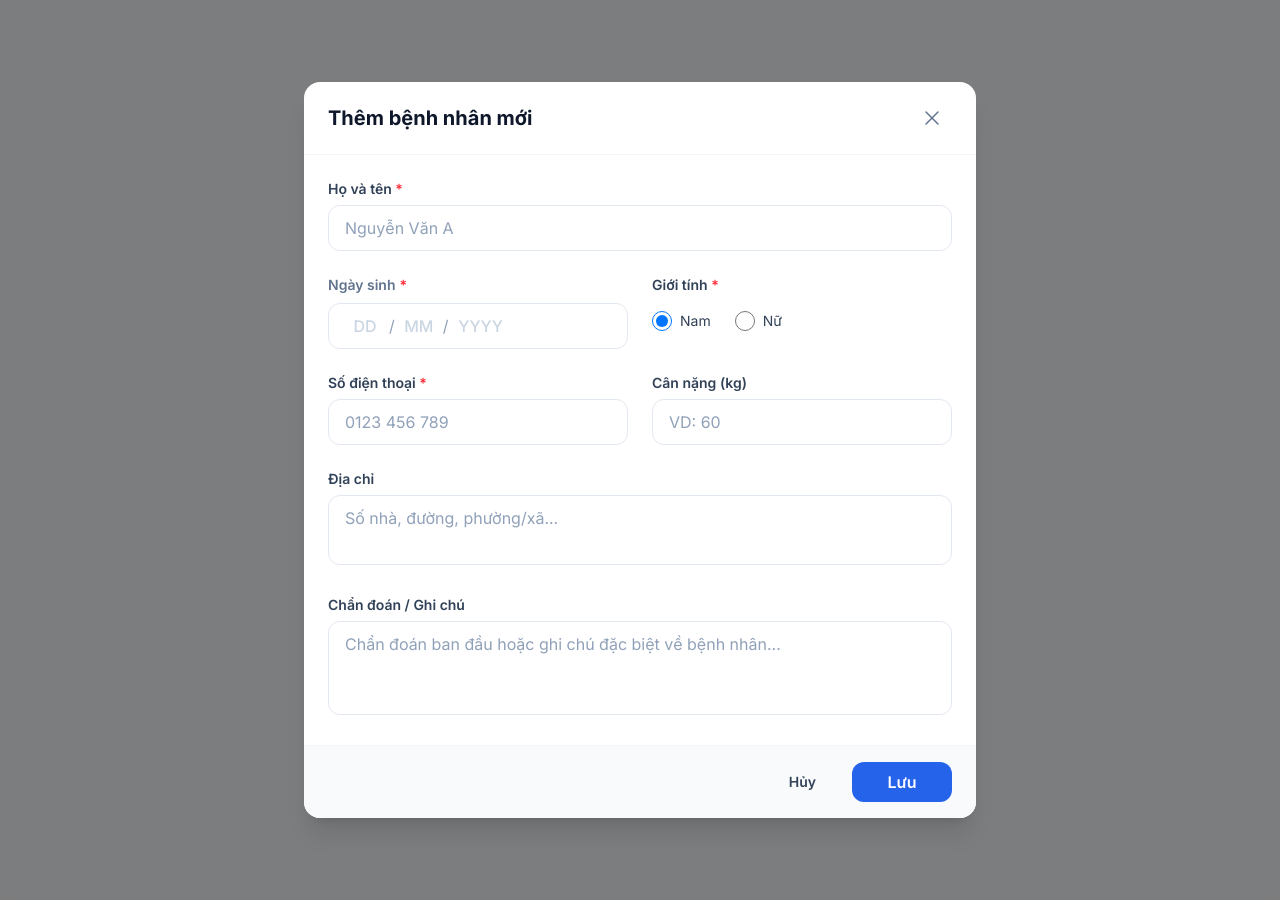
PatientFormDialog › should show validation error for invalid date
This screenshot has width=1280, height=900.
Type "Test Patient" into the field labelled "Họ và tên *". click: (640, 228)
box: [328,205,952,251]
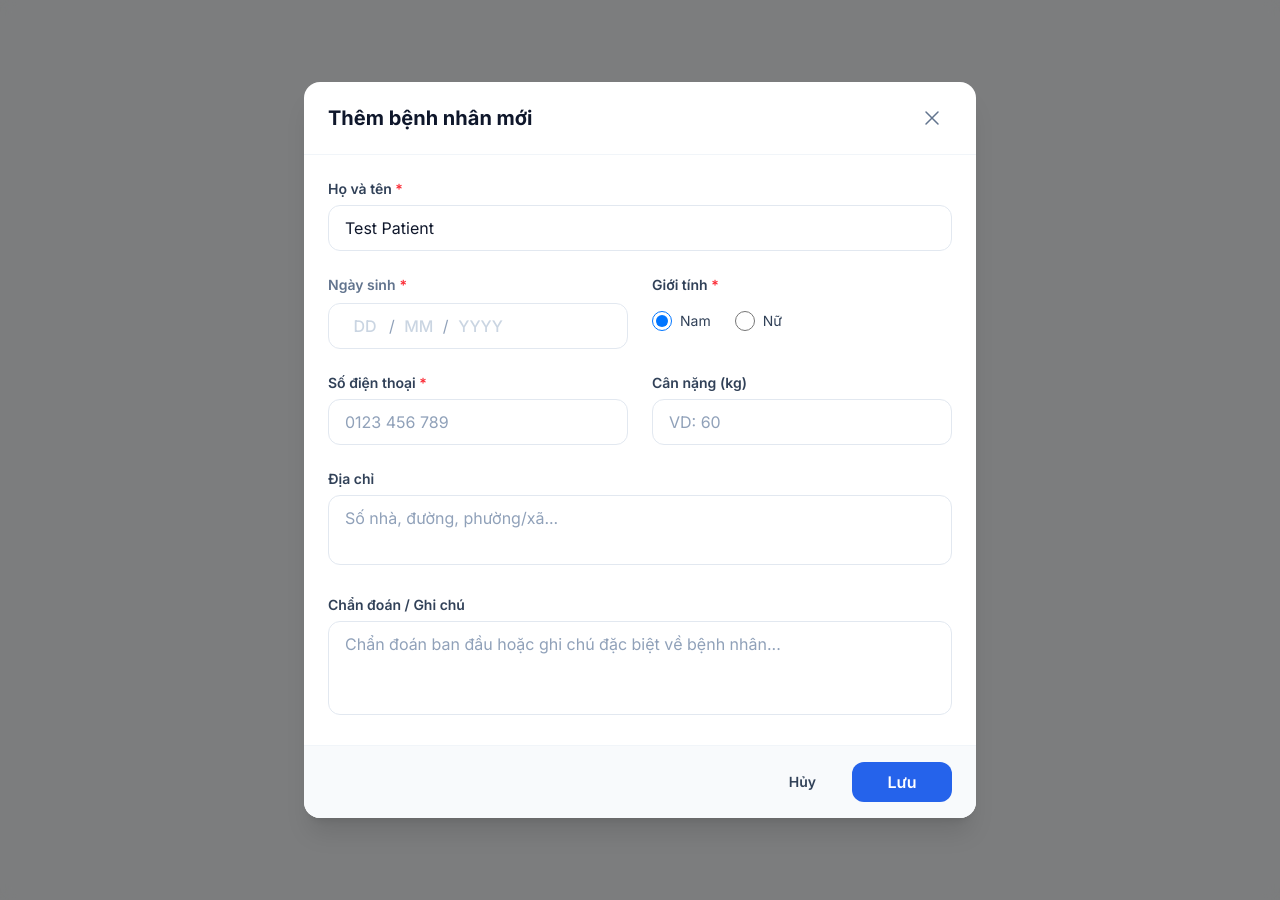
Type "32" into the field with placeholder "DD". click: (365, 326)
box: [345,314,385,338]
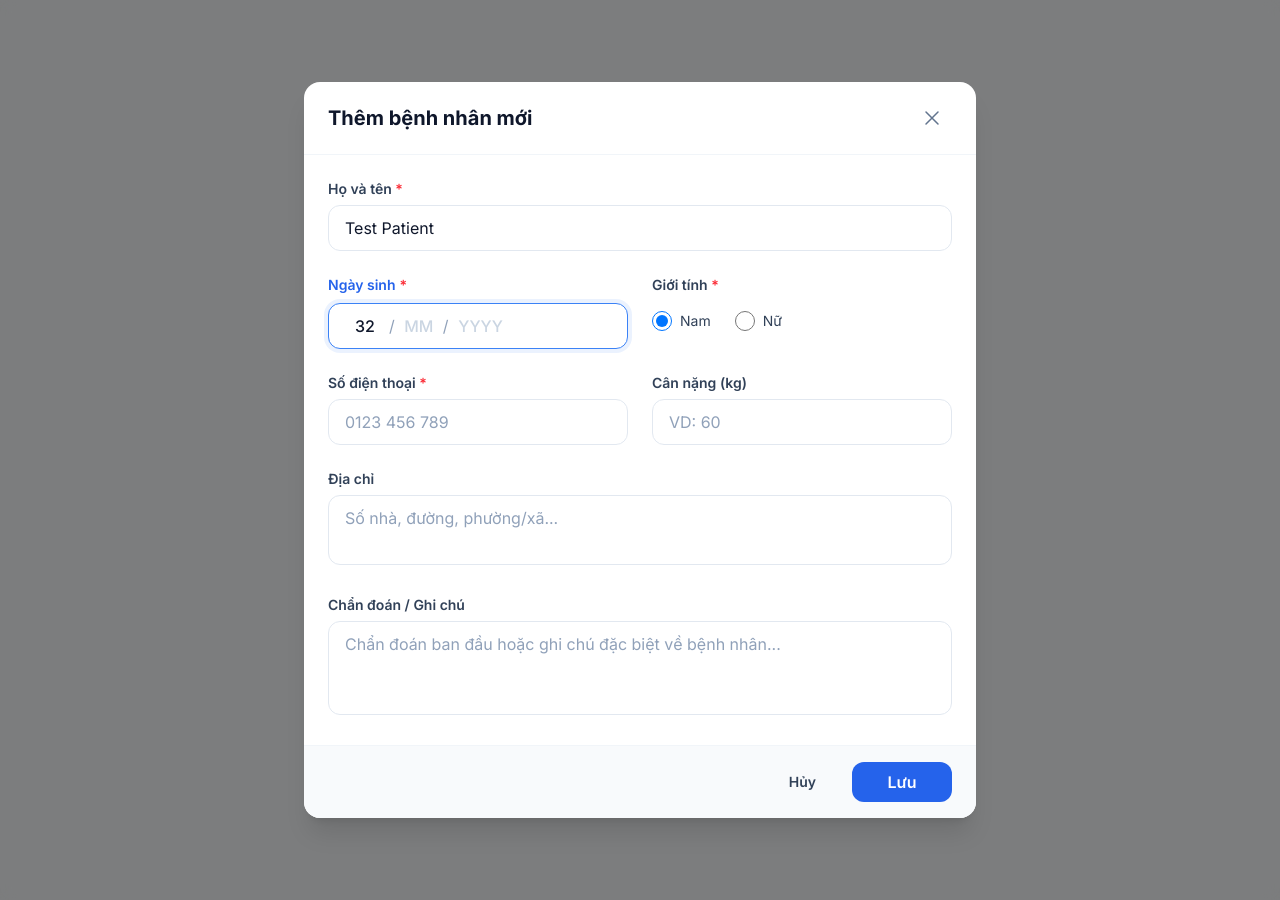
Type "13" into the field with placeholder "MM". click: (419, 326)
box: [399,314,439,338]
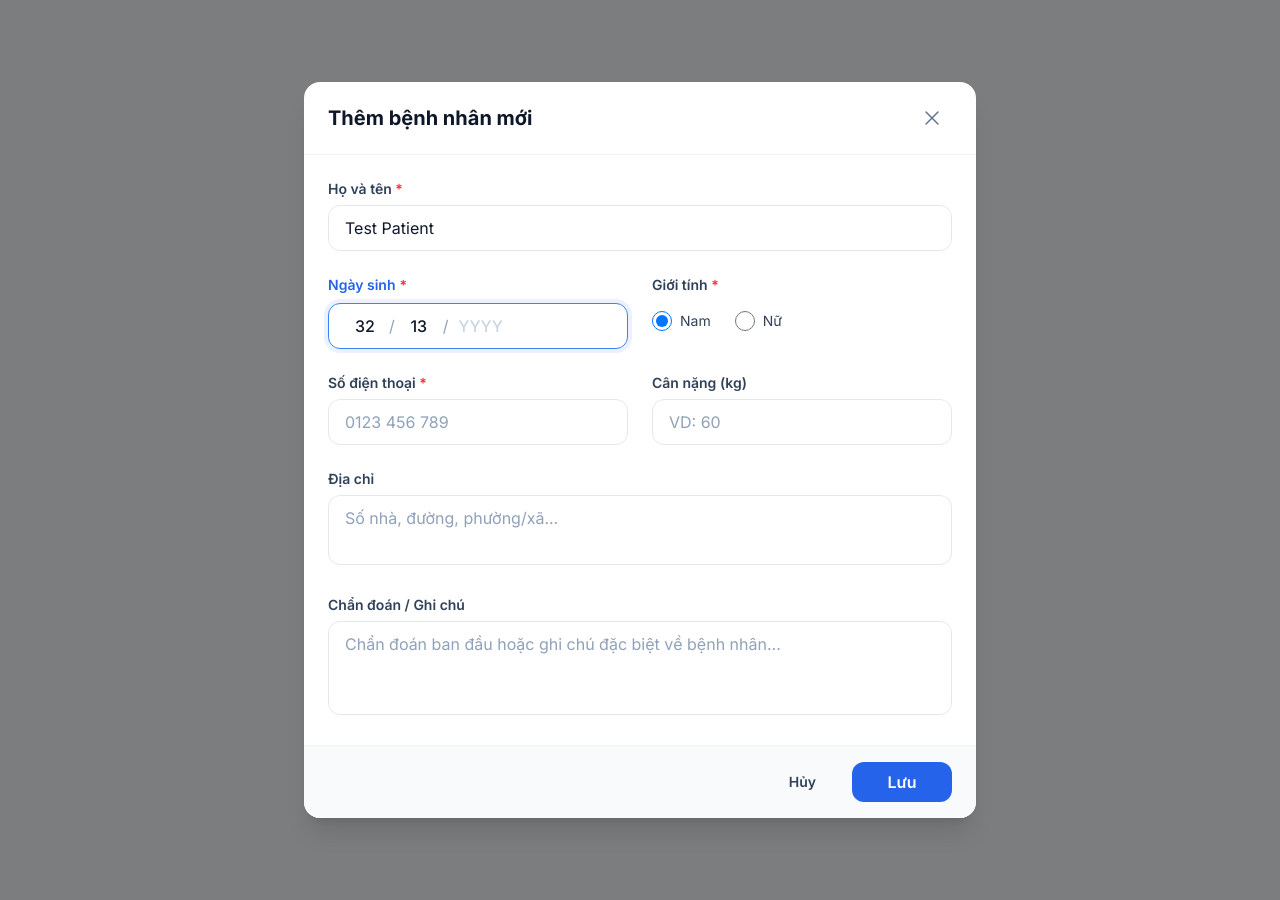
Type "2025" into the field with placeholder "YYYY". click: (480, 326)
box: [452,314,508,338]
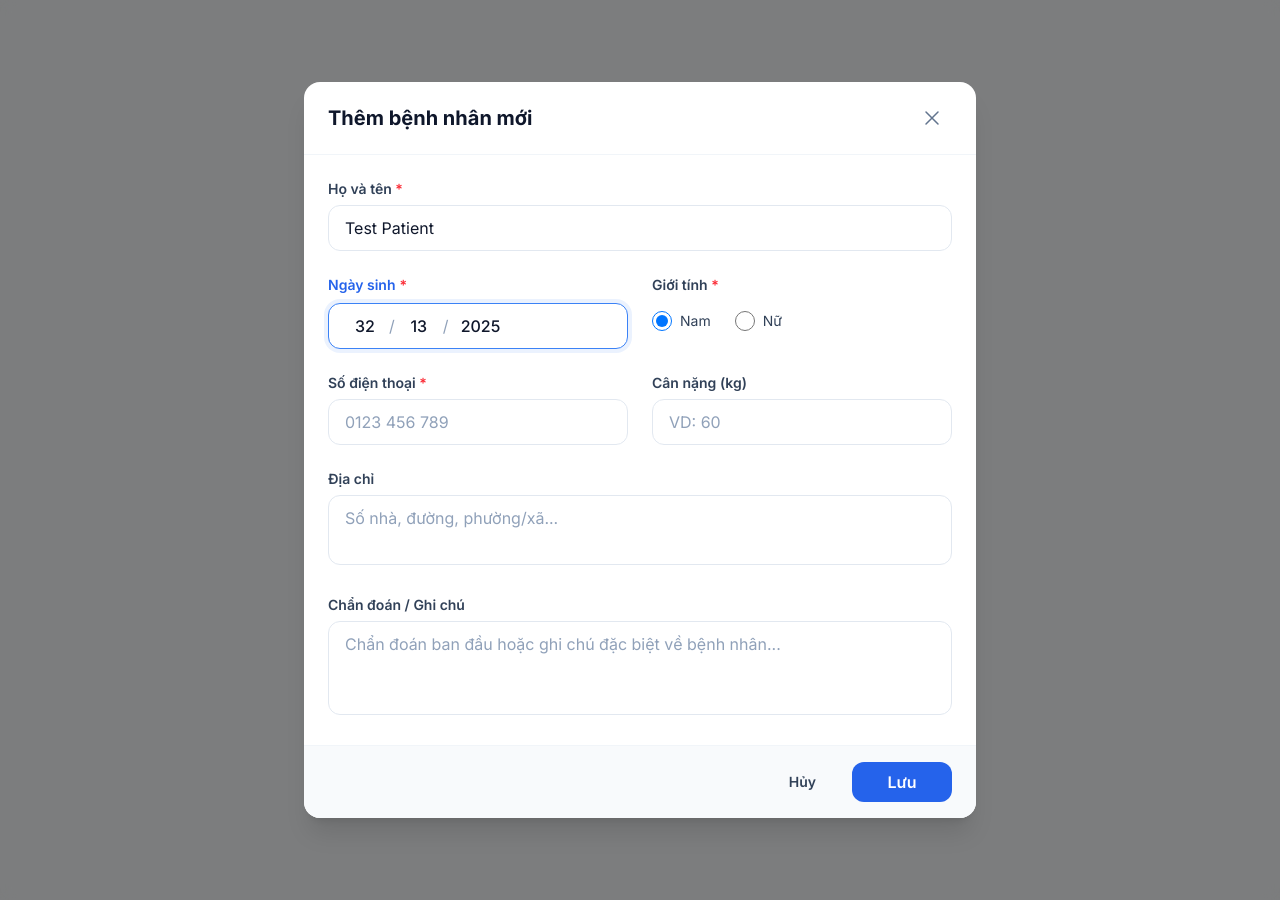
Click the button "Lưu". click: (902, 782)
box: [852,762,952,802]
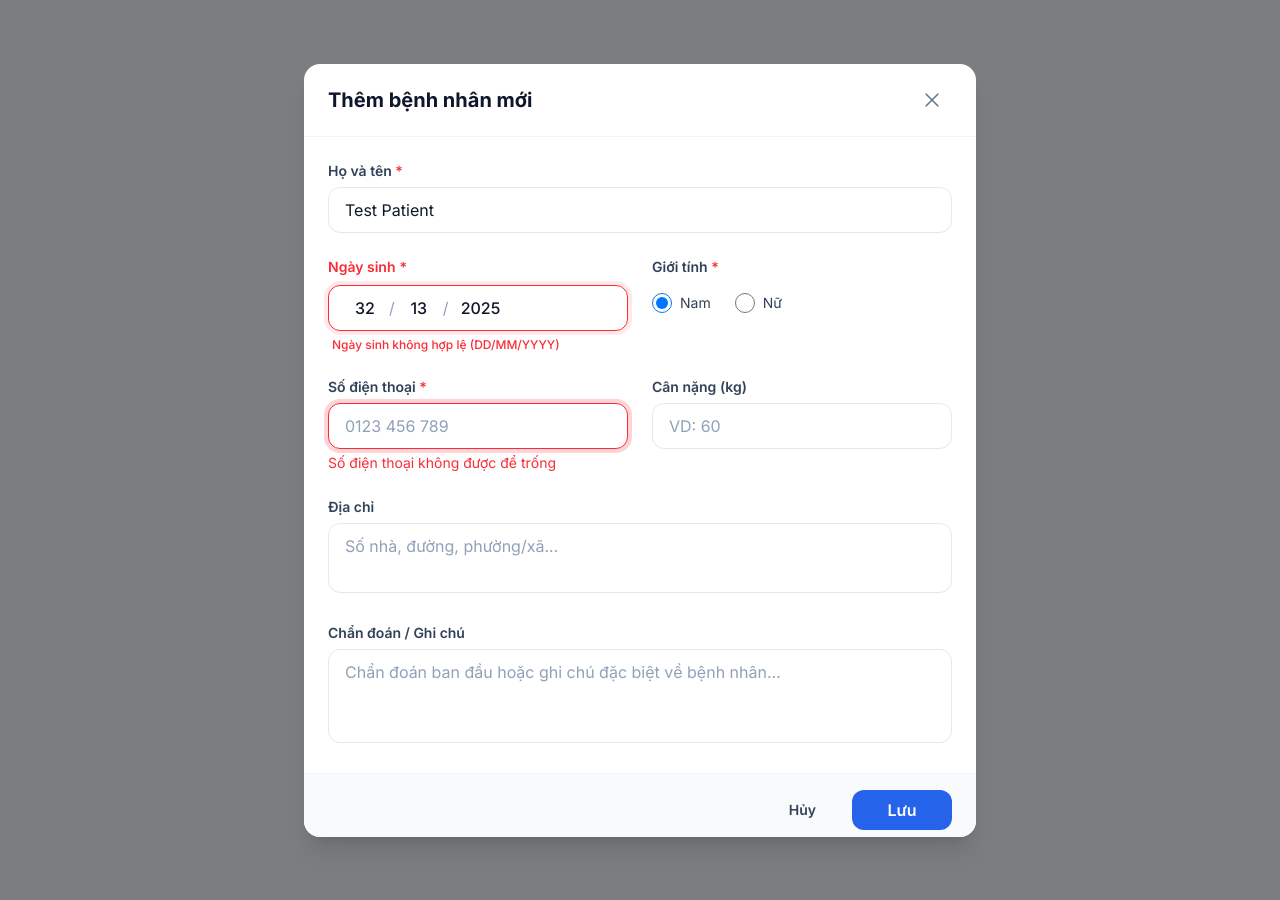
Check: the text "Ngày sinh không hợp lệ (DD/MM/YYYY)" is shown, box [332,336,560,352]
